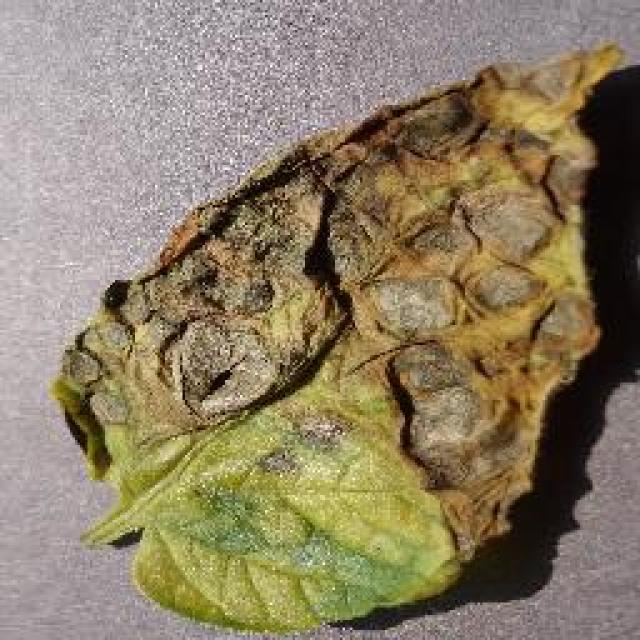early_blight: (48, 35, 632, 637)
